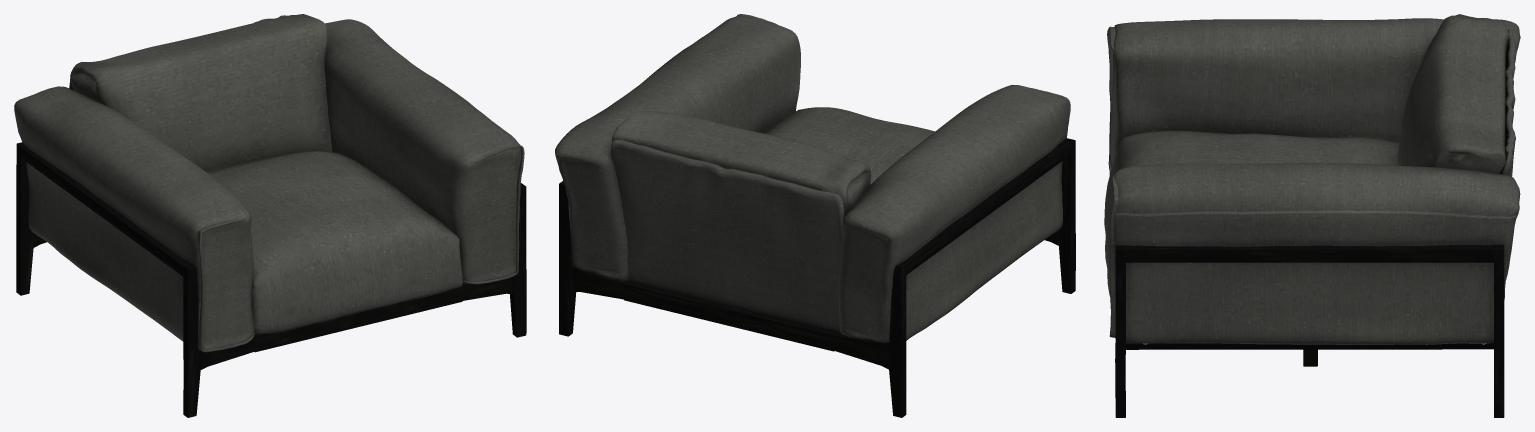
The model's file is abo-B071PDYXRQ.glb.
The picture shows the model from 3 angles, left to right: view 1: azimuth 30°, elevation 25°; view 2: azimuth 150°, elevation 25°; view 3: azimuth 270°, elevation 25°; orthographic projection. The views are drawn at different scales.
Bounding box in the file's own units: 1.06 × 0.646 × 0.969.
1 material, 1 textured.
